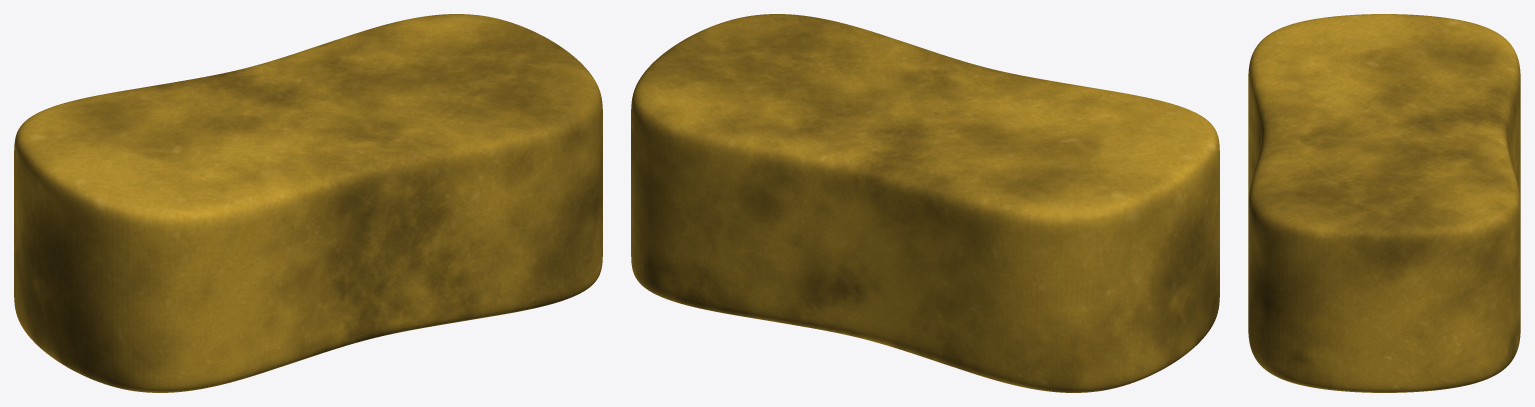
The model's file is Sponge.fbx.
3 views of the same model, side by side, from view 1: azimuth 30°, elevation 25°; view 2: azimuth 150°, elevation 25°; view 3: azimuth 270°, elevation 25° (orthographic). The views are drawn at different scales.
Visible parts, largest first — view 1: Cube; view 2: Cube; view 3: Cube.
Part boxes in pixels (<box>): Cube: <box>14,14,602,392</box>; Cube: <box>631,14,1219,392</box>; Cube: <box>1248,14,1520,392</box>.
Bounding box in the file's own units: 21.4 × 7.36 × 11.04.
